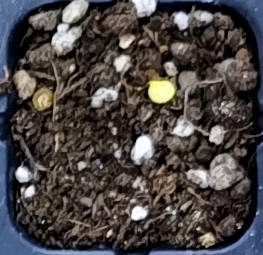pepper seed: (59, 26, 235, 131)
